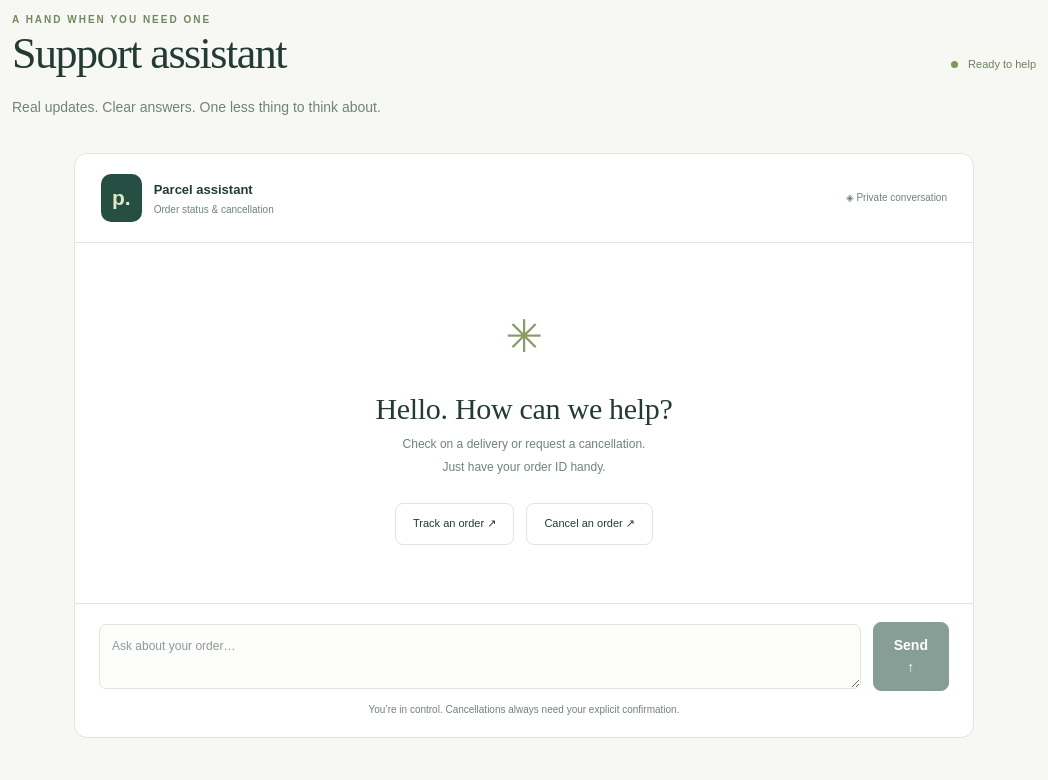
only one send runs while provider response is pending
Expected: the heading "Hello. How can we help?" is shown, [375,392,673,425]
Step 1. Type "Where is ORD1001?" into the text box named "Message the support assistant" → (480,656), box [99,624,861,689]
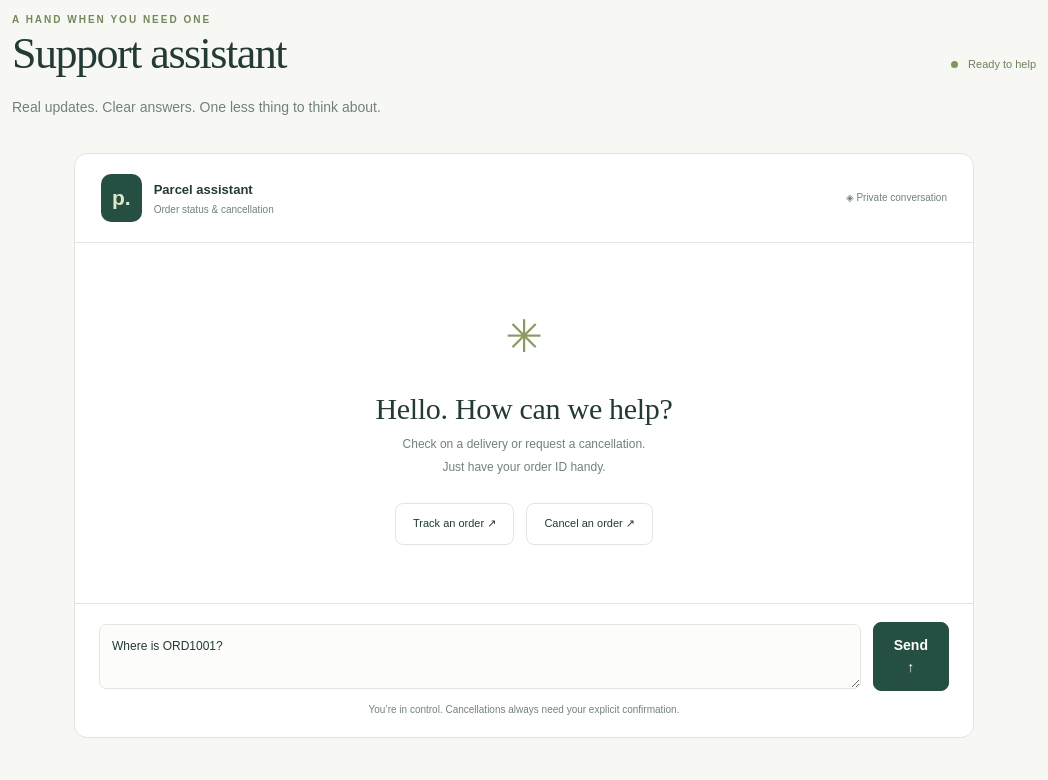
Step 2. Click the button "Send ↑" → (911,656), box [873,622,949,691]
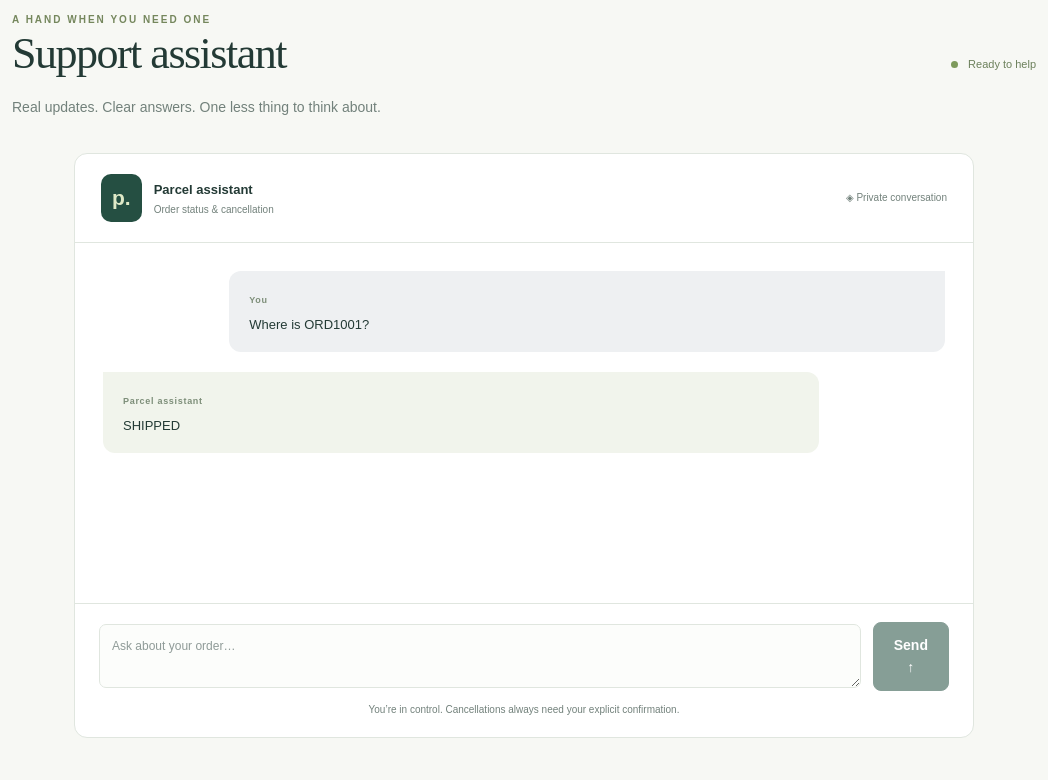
Expected: the button named "Sending…" is disabled, [873,622,949,691]
Expected: the text box named "Message the support assistant" is empty, [99,624,861,688]
